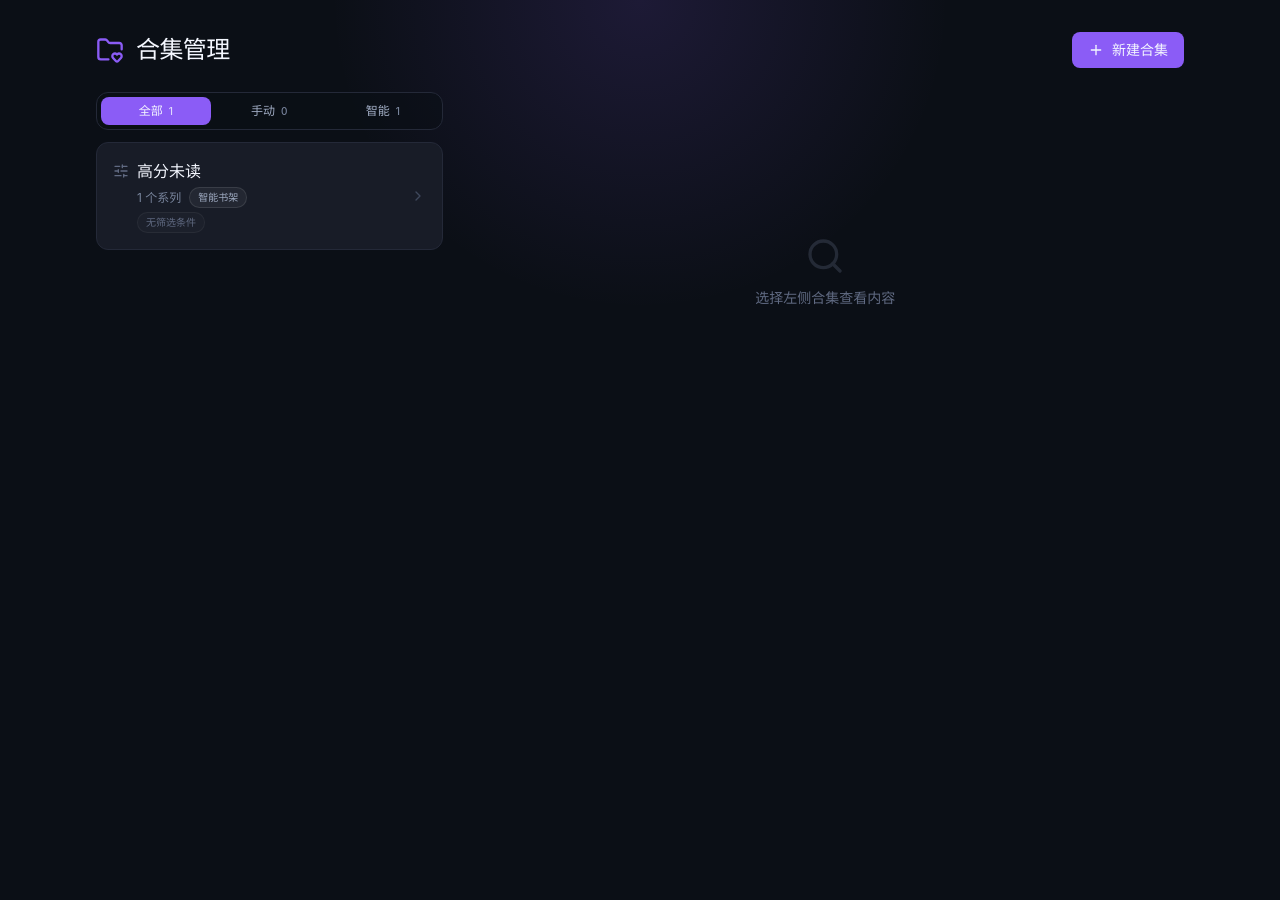
Test: 智能书架固化撞名 › 反向判据：固化成功时不提示重名并关掉弹窗
This screenshot has width=1280, height=900.
What coordinates should you click on to do the following:
click the text "高分未读"
I would click on:
 (169, 171)
Its box is x1=137 y1=159 x2=201 y2=183.
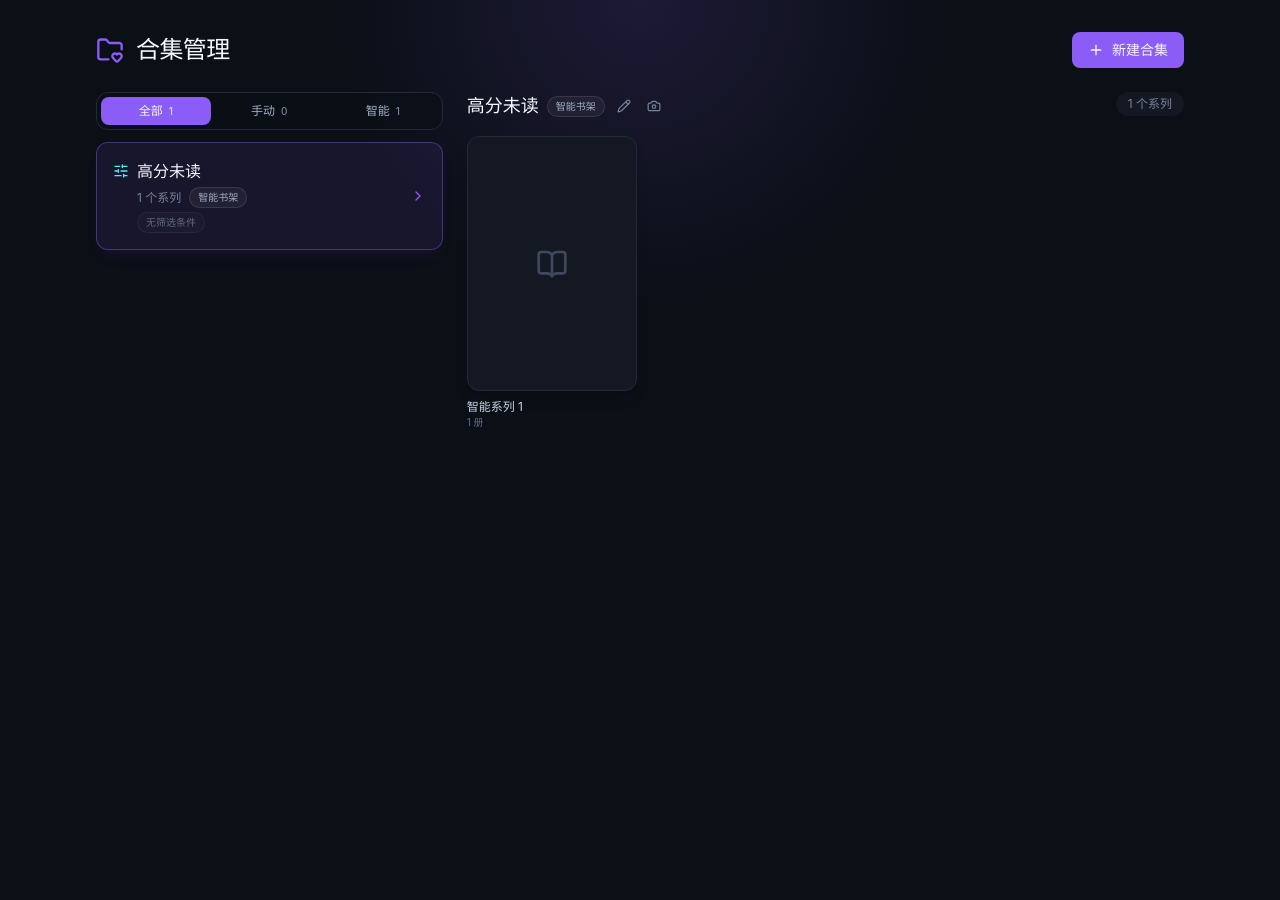
What coordinates should you click on to do the following:
click the button titled "固化快照"
I would click on:
 (654, 106)
Its box is x1=643 y1=95 x2=665 y2=117.
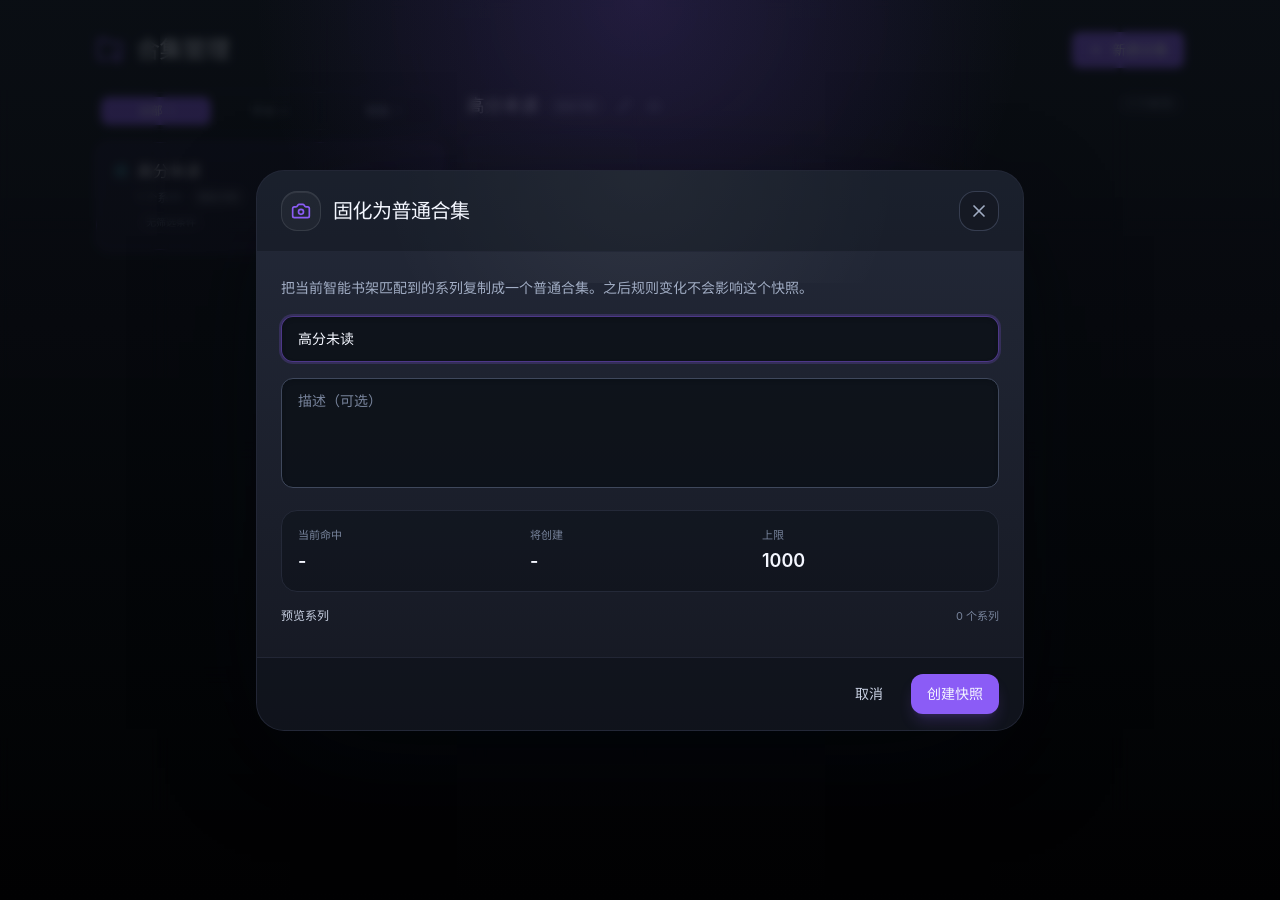
Now the button "创建快照" is enabled
What coordinates should you click on to do the following:
click the button "创建快照"
I would click on:
 (955, 694)
Its box is x1=911 y1=674 x2=999 y2=714.
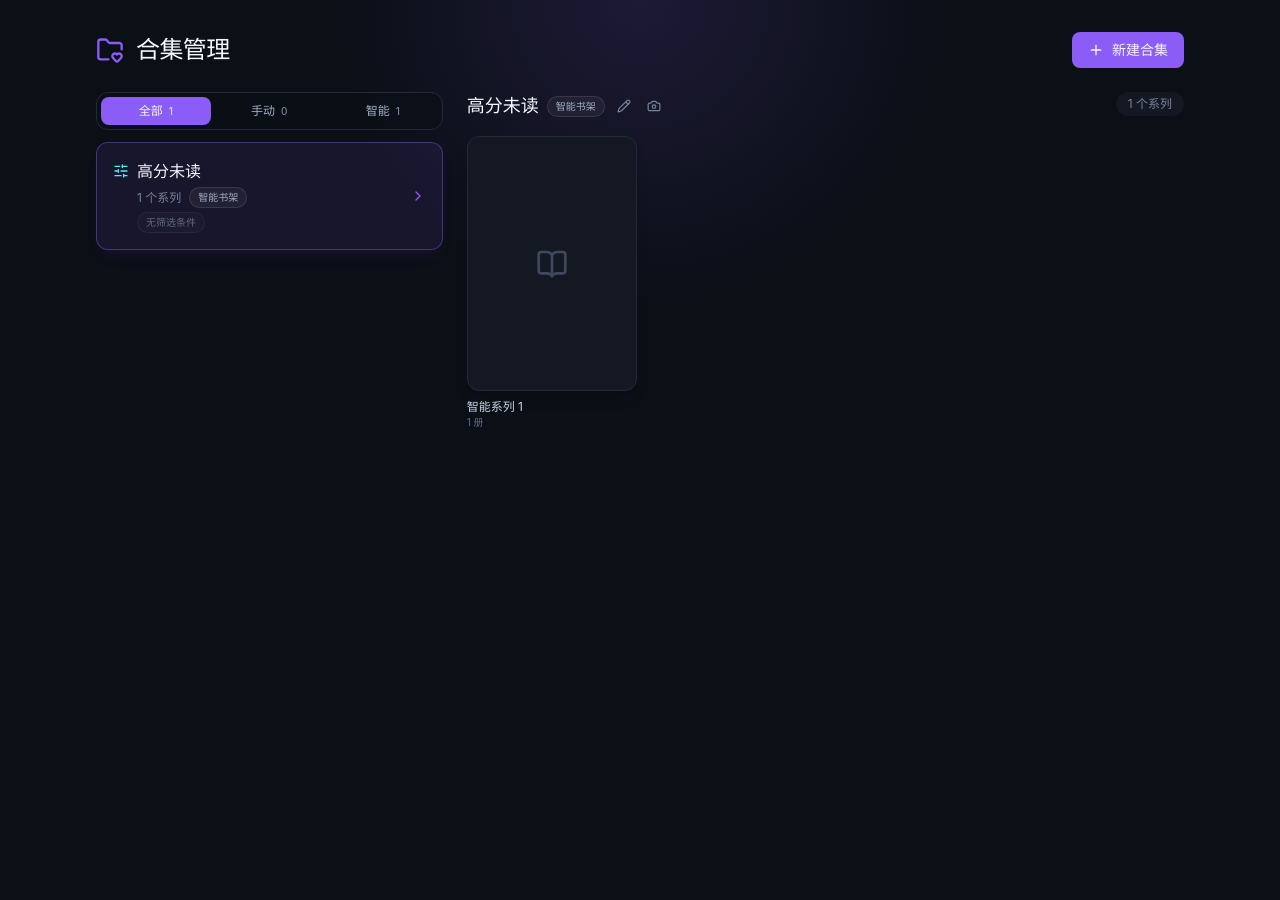
Now the button "创建快照" is gone
